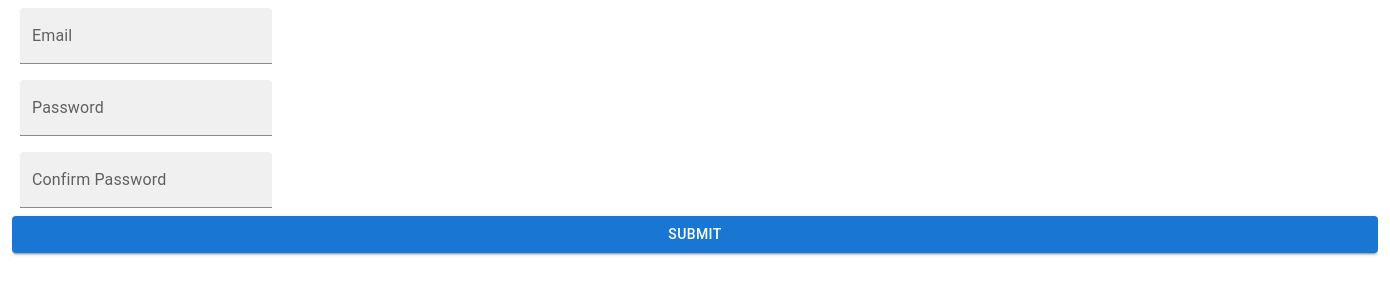
Test: Sign up form tests › Sign up form error handles tests › should show password error if password and confirm password do not match
Expected: the text "passwords do not match" is not shown
Type "hello@email.com" into the field labelled "Email" at (146, 36), box [20,8,272,64]
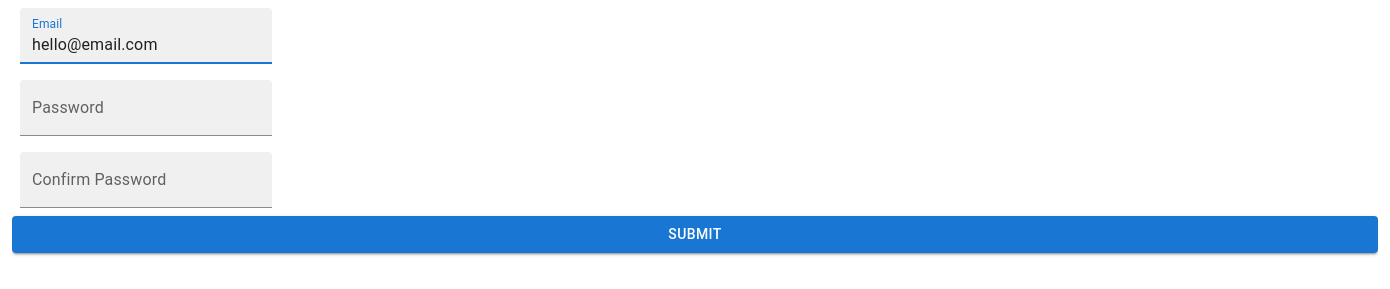
Type "this-is-my-password" into the password field labelled "Password" at (146, 108), box [20,80,272,136]
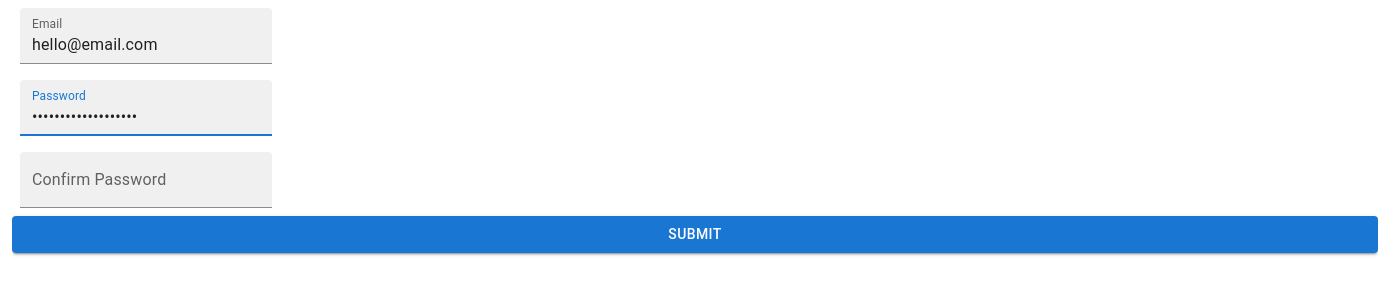
Type "password1!" into the password field labelled "Confirm Password" at (146, 180), box [20,152,272,208]
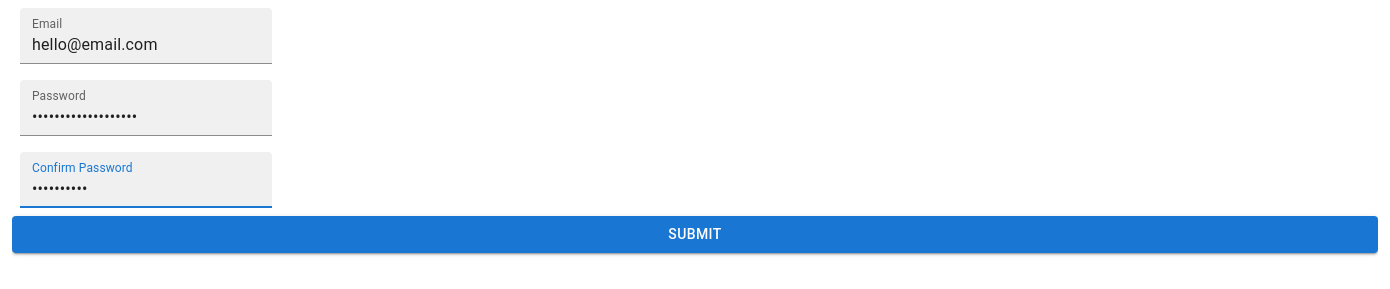
Click the button "Submit" at (695, 234), box [12,216,1378,252]
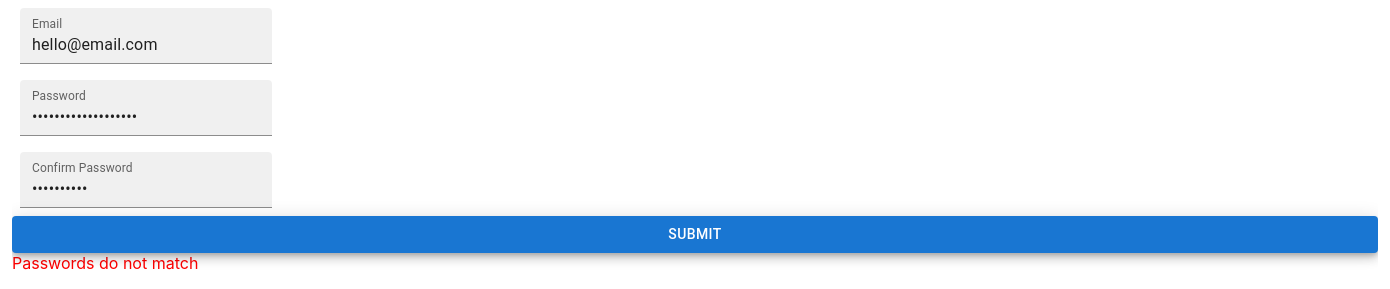
Result: the text "Passwords do not match" is shown at [12,252,198,272]
